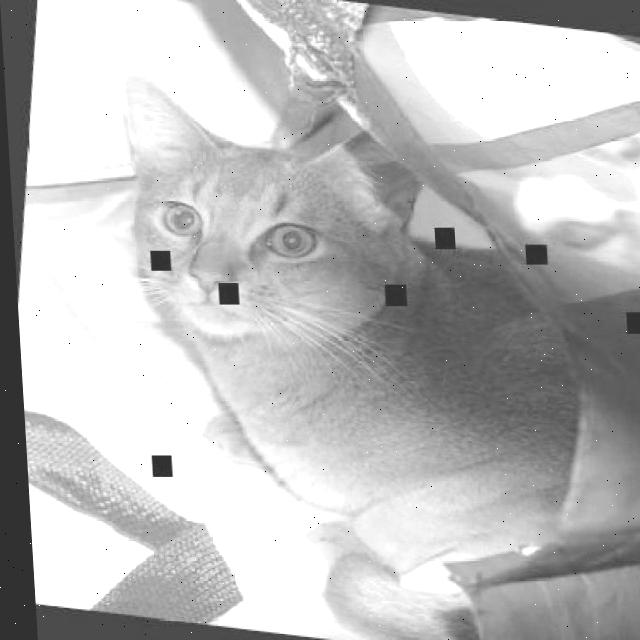Cat: (51, 63, 628, 639)
